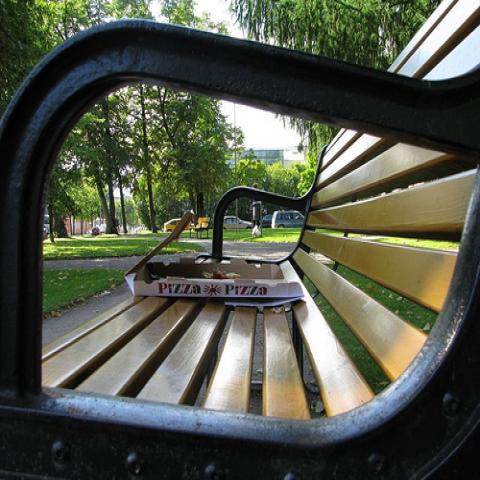car: (271, 210, 304, 229), (223, 216, 251, 230), (164, 218, 181, 232), (92, 227, 100, 235), (185, 223, 195, 229)
